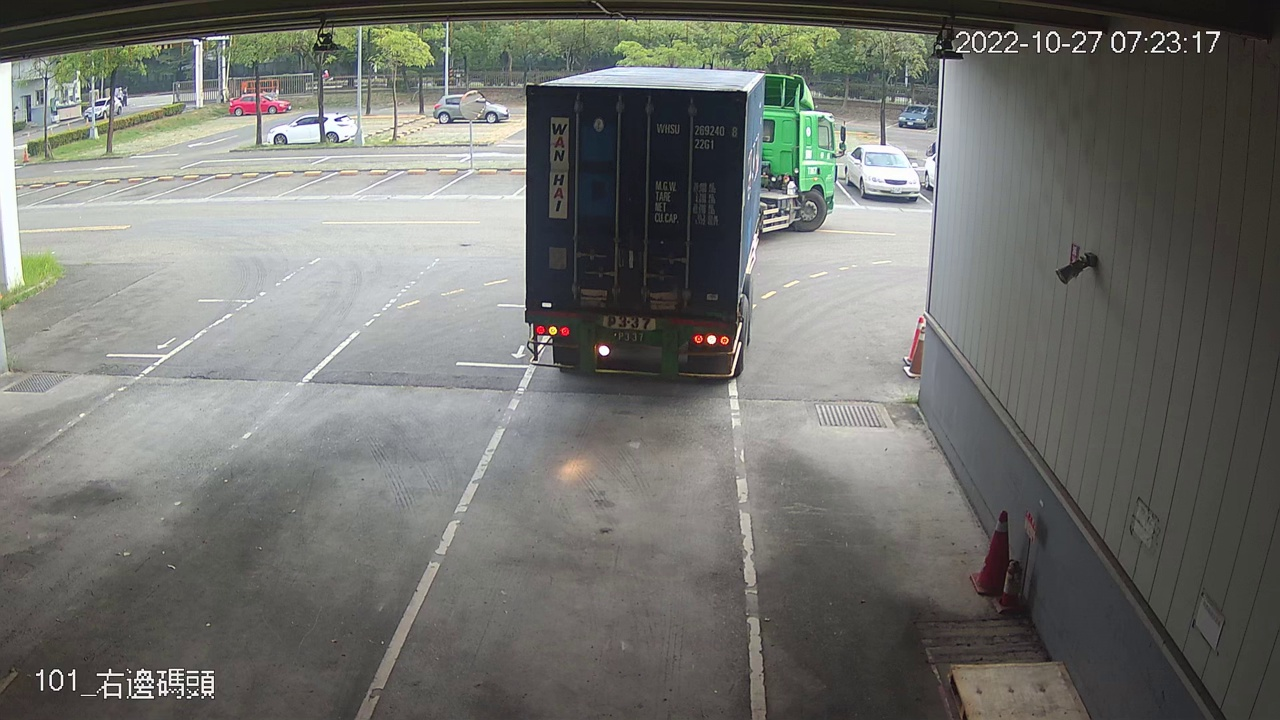container: (653, 117, 743, 155)
